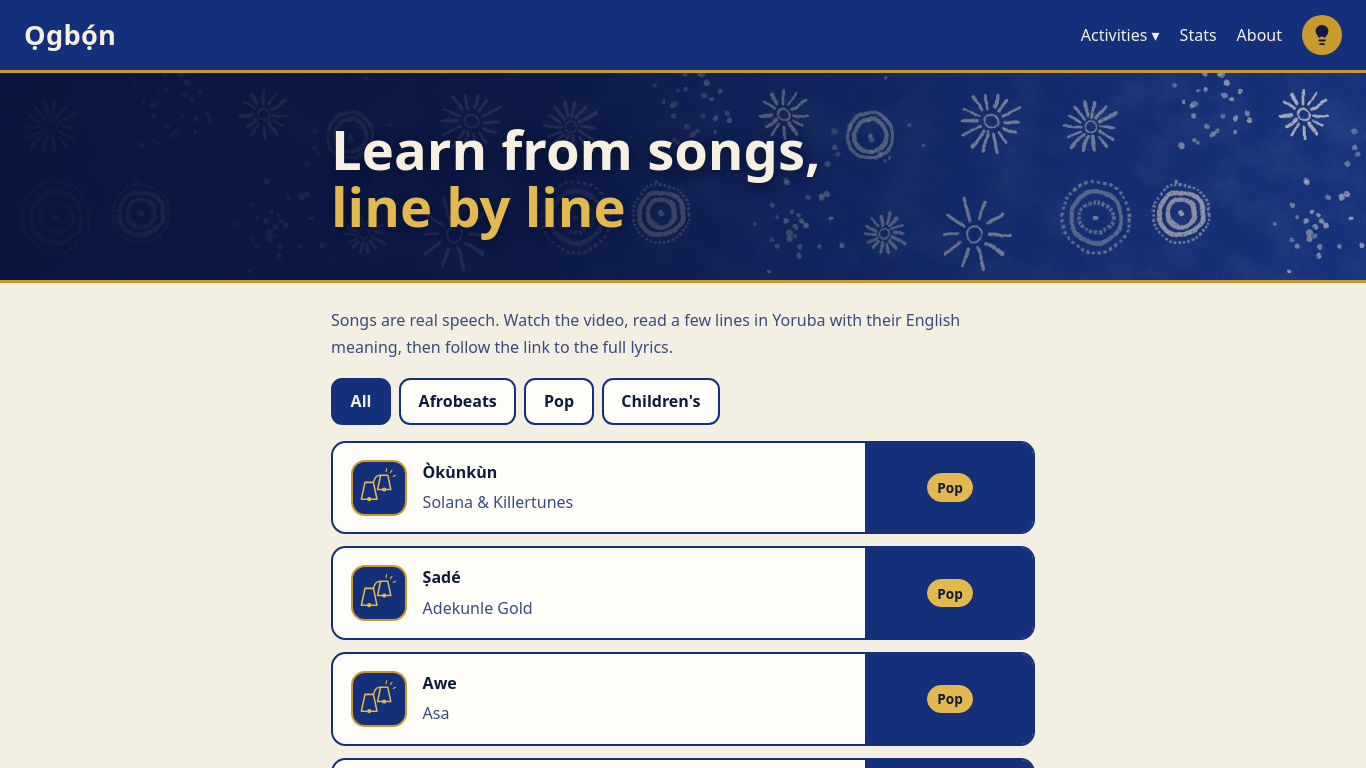
Songs list › offers All plus only the genres in use, and filters by genre
Click the button "Children's": [661, 401] box [602,378,720,425]
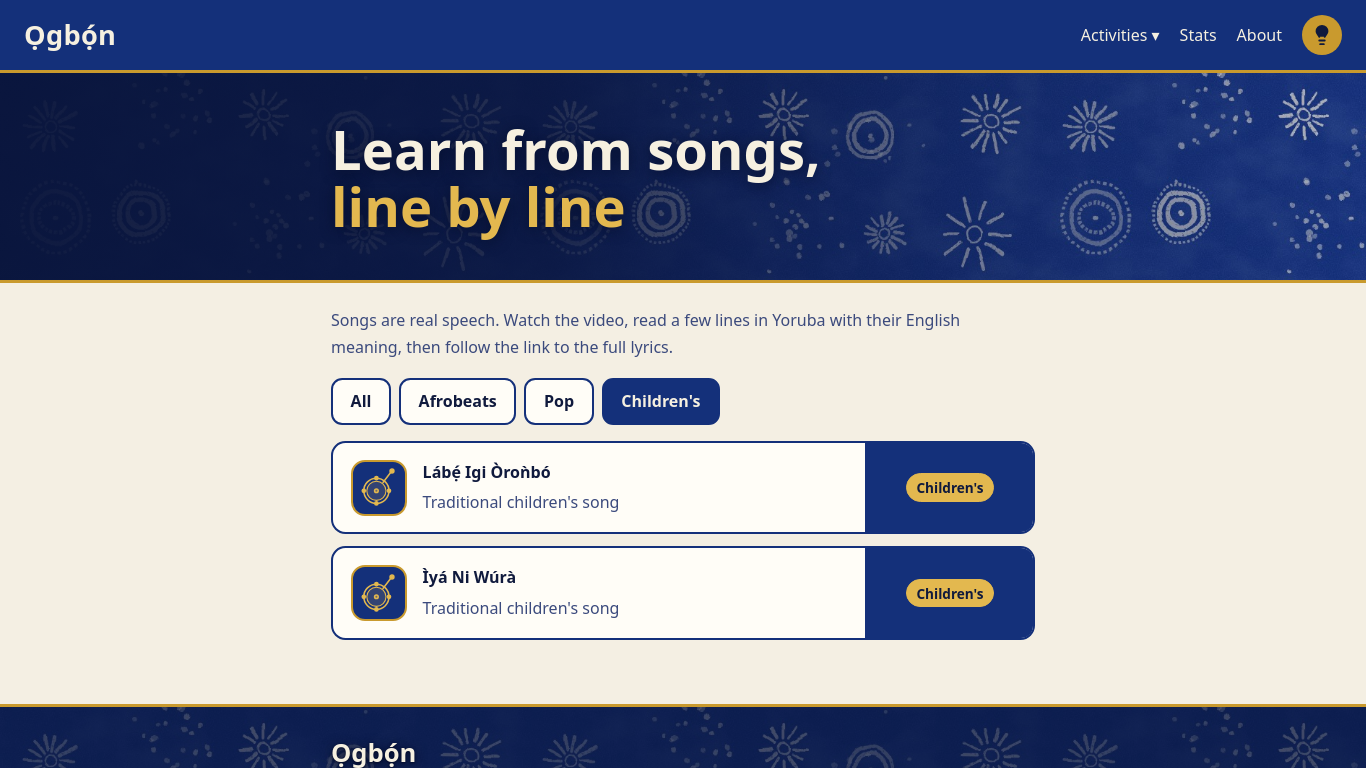
Check: the number of links with test id "song-card" is 2, box [331,441,1035,534]; [331,546,1035,640]
Click the button "All": [361, 401] box [331,378,391,425]
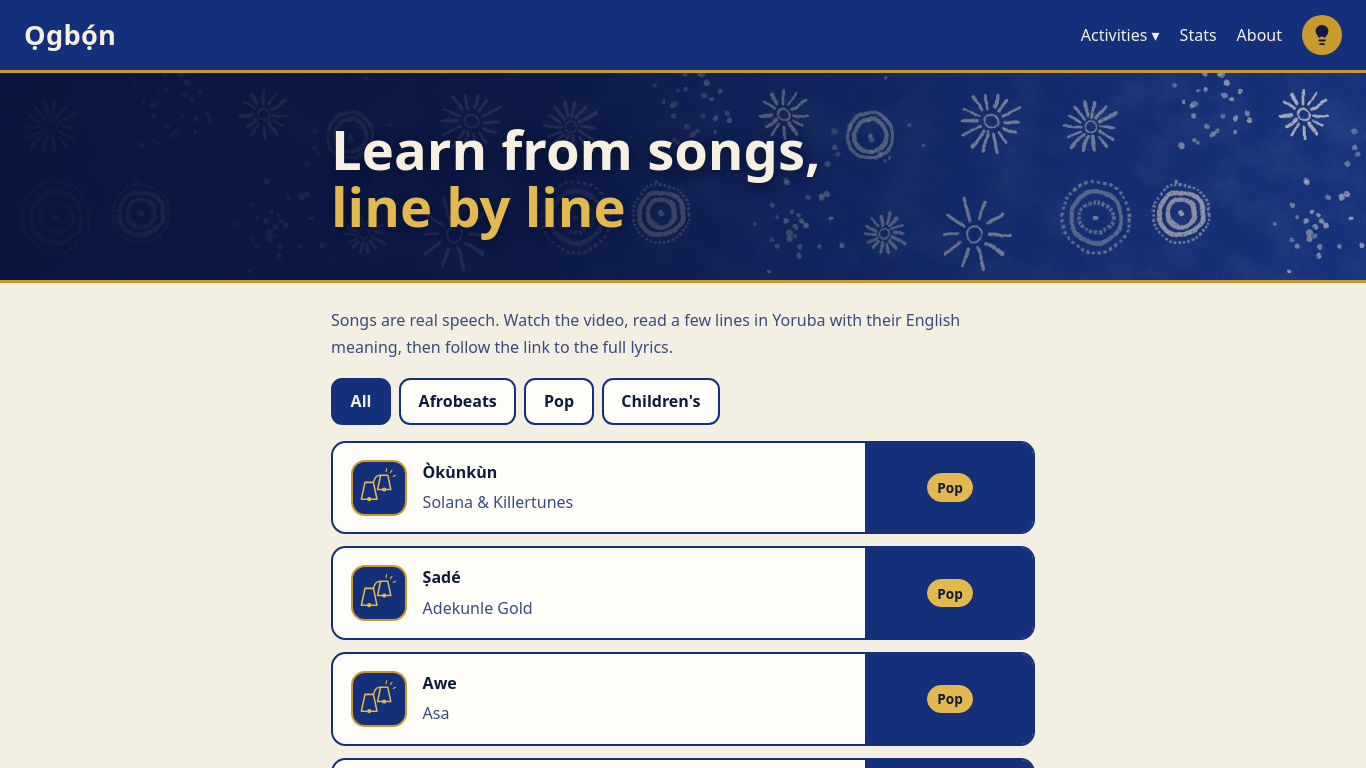
Check: the number of links with test id "song-card" is 10
